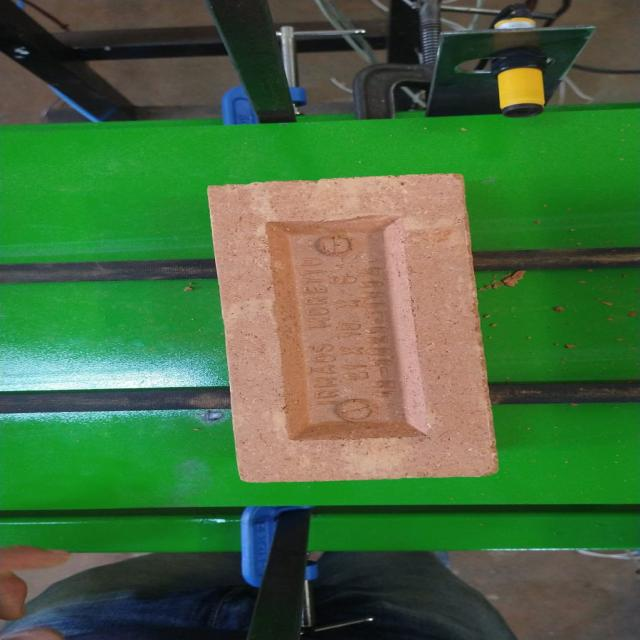bricks: (208, 173, 500, 482)
